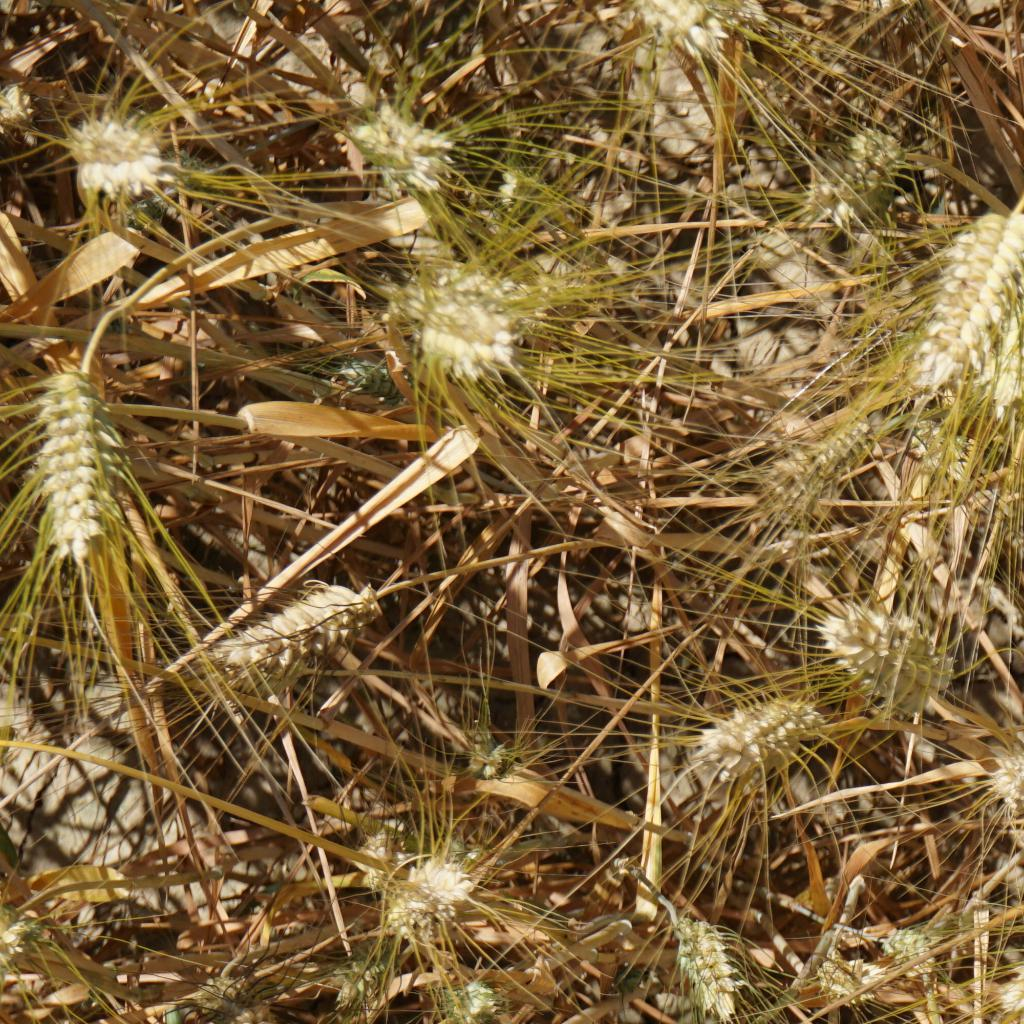0-0: (31, 354, 134, 565), (931, 190, 1010, 397), (208, 579, 391, 667), (821, 592, 956, 710), (340, 88, 462, 202), (60, 108, 185, 212), (399, 309, 539, 386), (665, 909, 754, 1024), (787, 397, 868, 523), (362, 848, 476, 935), (805, 121, 893, 224), (702, 673, 815, 752), (401, 248, 531, 316), (610, 0, 764, 50), (992, 230, 1024, 419), (330, 951, 409, 1024), (807, 955, 897, 1016), (0, 889, 63, 971), (878, 913, 945, 982), (433, 977, 529, 1024), (992, 889, 1024, 998), (998, 728, 1024, 819), (218, 1010, 283, 1024)
